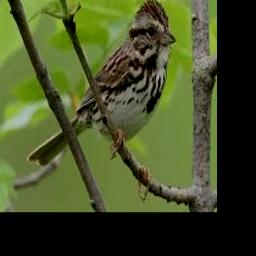Sparrow: (28, 0, 176, 200)
